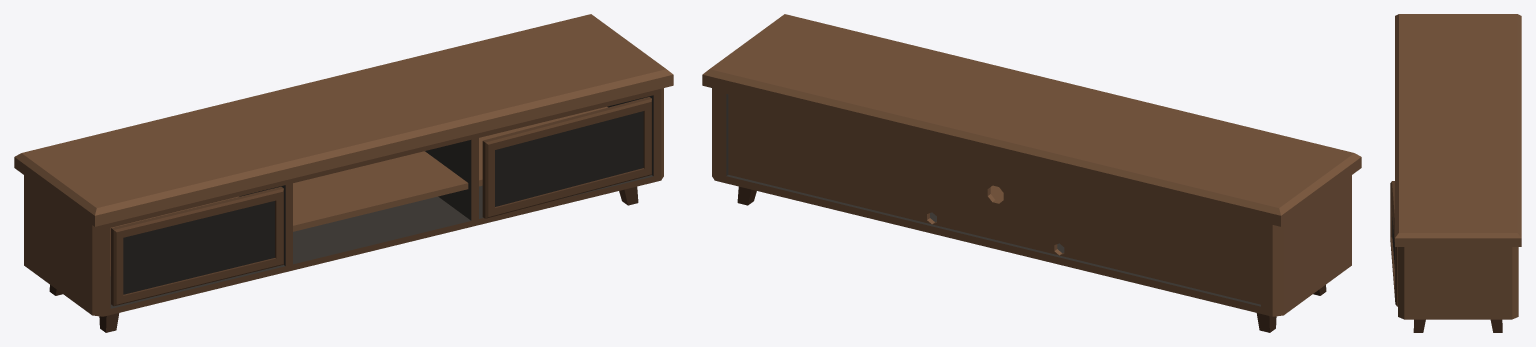
The model's file is low-media-unit-645e61.glb.
3 renders of one model, left to right at view 1: azimuth 30°, elevation 25°; view 2: azimuth 150°, elevation 25°; view 3: azimuth 270°, elevation 25°, orthographic. The views are drawn at different scales.
Parts seen in each view (by area): view 1: low-media-unit, door-l, door-r; view 2: low-media-unit; view 3: low-media-unit, door-r.
Part boxes in pixels (x1,y1,x2,y2): low-media-unit: (14,14,673,332); door-l: (111,186,283,306); door-r: (482,97,651,218); low-media-unit: (702,14,1361,332); low-media-unit: (1395,14,1521,332); door-r: (1390,181,1397,306).
Size of the model in its own units: 2 by 0.45 by 0.4992.
